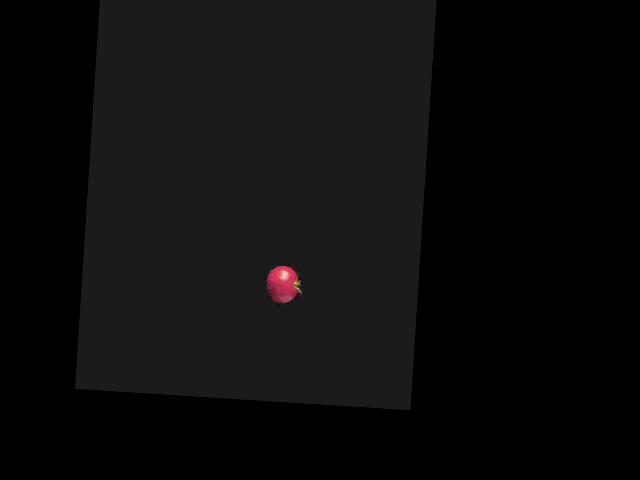tomato: (266, 265, 299, 303)
